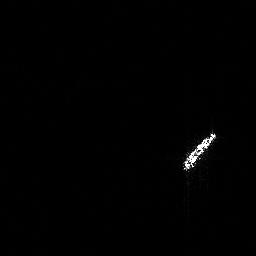ship: (177, 128, 219, 175)
